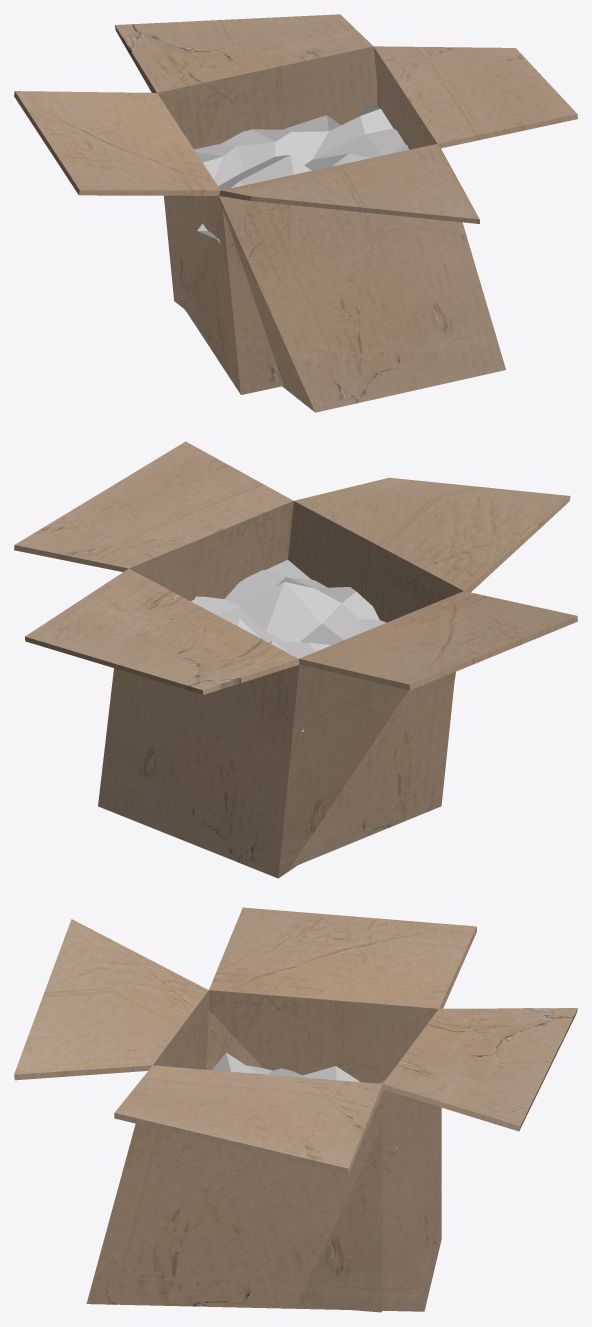
The picture shows the model from 3 angles, top to bottom: view 1: azimuth 30°, elevation 25°; view 2: azimuth 150°, elevation 25°; view 3: azimuth 270°, elevation 25°; orthographic projection. The views are drawn at different scales.
Parts seen in each view (by area): view 1: cardboard box.120; view 2: cardboard box.120; view 3: cardboard box.120.
Part boxes in pixels (box(x1,y1,x2,y2)): cardboard box.120: box(14, 14, 577, 412); cardboard box.120: box(14, 441, 577, 878); cardboard box.120: box(14, 907, 577, 1312).
Bounding box in the file's own units: 10.84 × 5.55 × 10.45.
